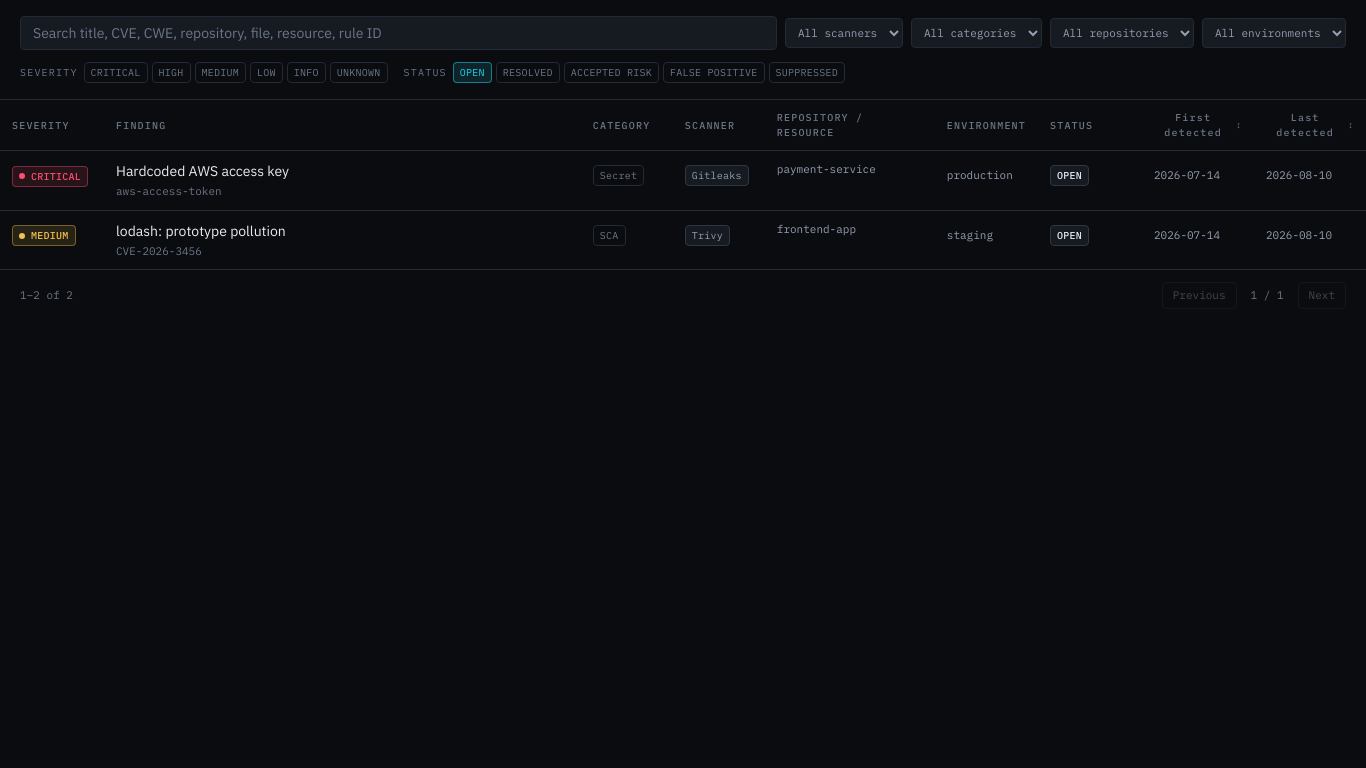
Test: FindingsTable detail drawer › opens a finding's details when its row is activated
This screenshot has width=1366, height=768.
Click the text "lodash: prototype pollution".
click(201, 230)  # box [116, 222, 286, 240]
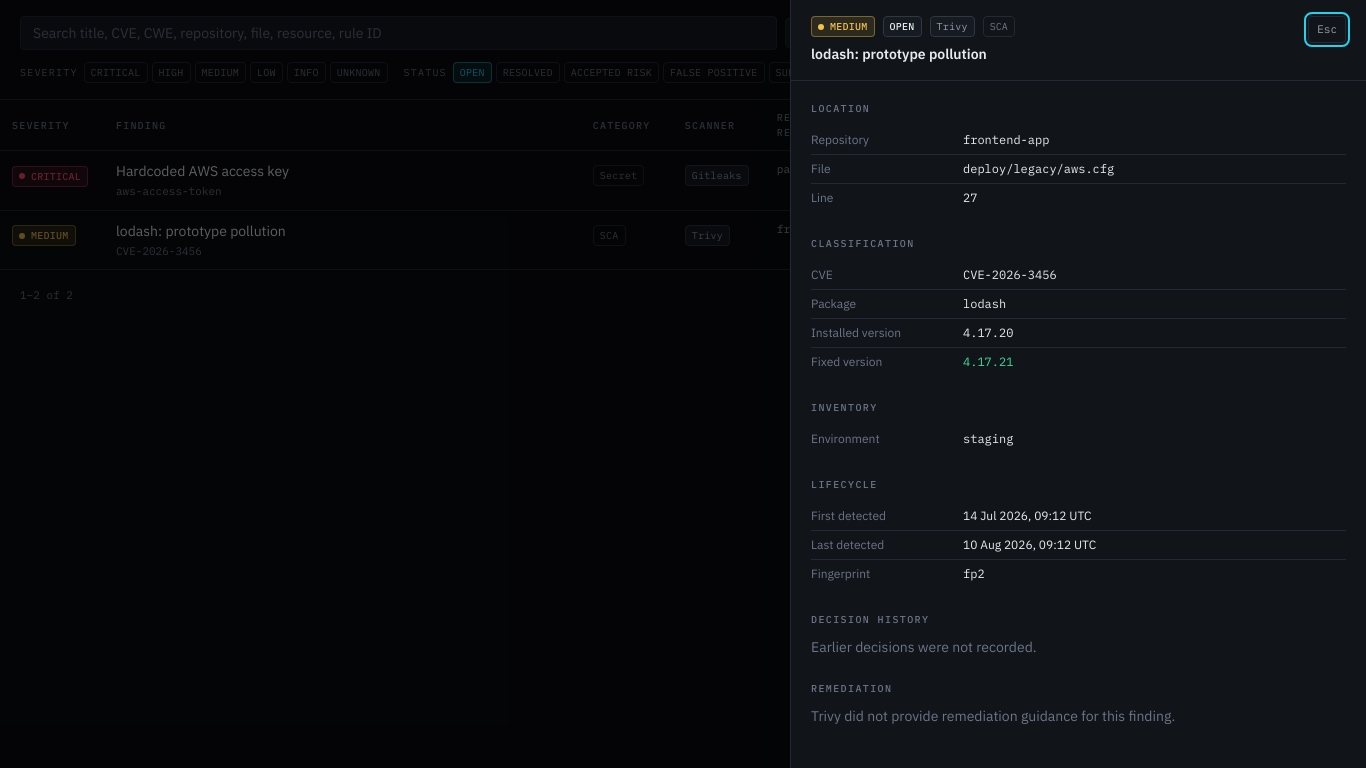
expect the text "CVE-2026-3456" is shown: met, box [963, 267, 1057, 282]
expect the text "4.17.20" is shown: met, box [963, 325, 1013, 340]
expect the text "4.17.21" is shown: met, box [963, 354, 1013, 369]
